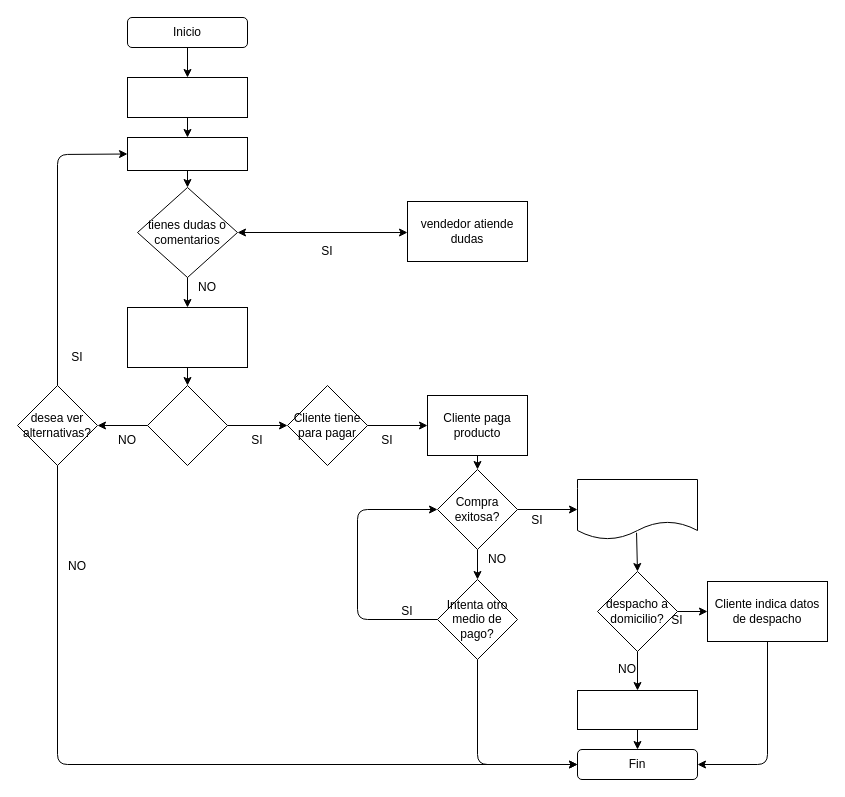
The diagram is 845 pixels wide and 797 high, and some of its shapes have lost their labels. The shapes that lost their labels are listed below. From the top down, each one's box as (x1, y1, x2, y2) in pixels, then its label:
(126, 76, 248, 118): Cliente ingresa a la tienda
(126, 136, 248, 170): Selecciona producto
(126, 306, 248, 368): cliente se decide por comprar producto
(146, 384, 228, 466): tiene stock?
(576, 478, 698, 540): Vendedor emite factua
(576, 690, 698, 730): Cliente retira producto
